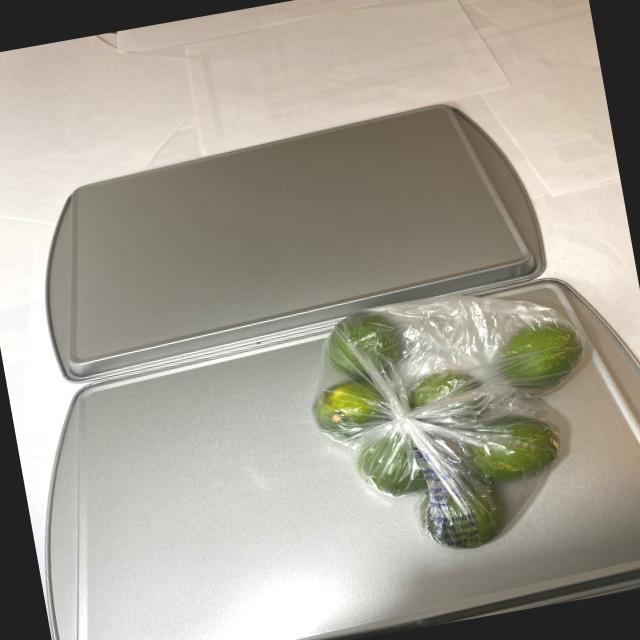lemon: (292, 273, 613, 564)
